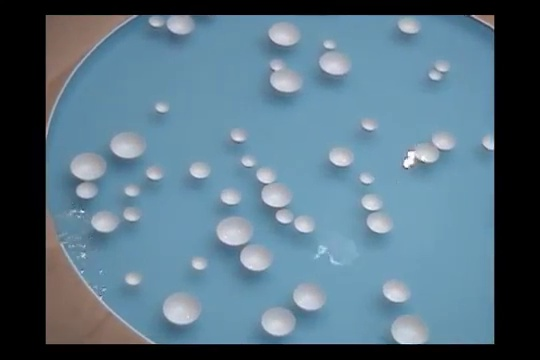bowl: (162, 291, 202, 326), (216, 215, 254, 247), (109, 130, 147, 162), (390, 314, 429, 344), (260, 306, 296, 338), (292, 281, 326, 313), (69, 151, 106, 180), (240, 243, 273, 273), (318, 50, 352, 79), (267, 21, 302, 49), (269, 69, 303, 96), (260, 182, 293, 208), (382, 278, 411, 303), (91, 209, 120, 234), (366, 211, 394, 235), (166, 15, 195, 37), (328, 146, 355, 168), (414, 142, 440, 164), (431, 130, 457, 152), (397, 16, 422, 36), (293, 213, 316, 233), (75, 181, 98, 201), (219, 187, 242, 206), (361, 193, 383, 212), (189, 160, 211, 179), (255, 166, 276, 184), (145, 164, 165, 182), (274, 208, 294, 225), (124, 270, 143, 287), (229, 126, 248, 143), (123, 206, 142, 222), (360, 117, 379, 132), (147, 15, 167, 28), (124, 183, 141, 198), (268, 58, 286, 72), (481, 132, 494, 151), (191, 255, 207, 270), (359, 172, 375, 186), (241, 154, 257, 168), (154, 100, 170, 114), (435, 59, 450, 73), (427, 68, 443, 81), (322, 38, 337, 51)
